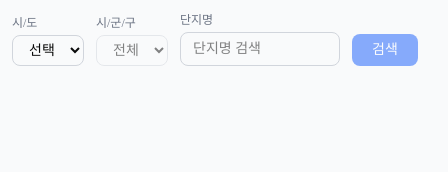
Test: MbRegionSelector 상호작용 › 시도 선택 후 검색 버튼이 활성화된다
Select "경기" in the dropdown labelled "시/도" at (48, 50), box 12,35 -> 84,66
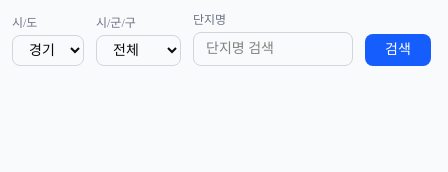
Expected: the button "검색" is enabled, 365,34 -> 431,66
